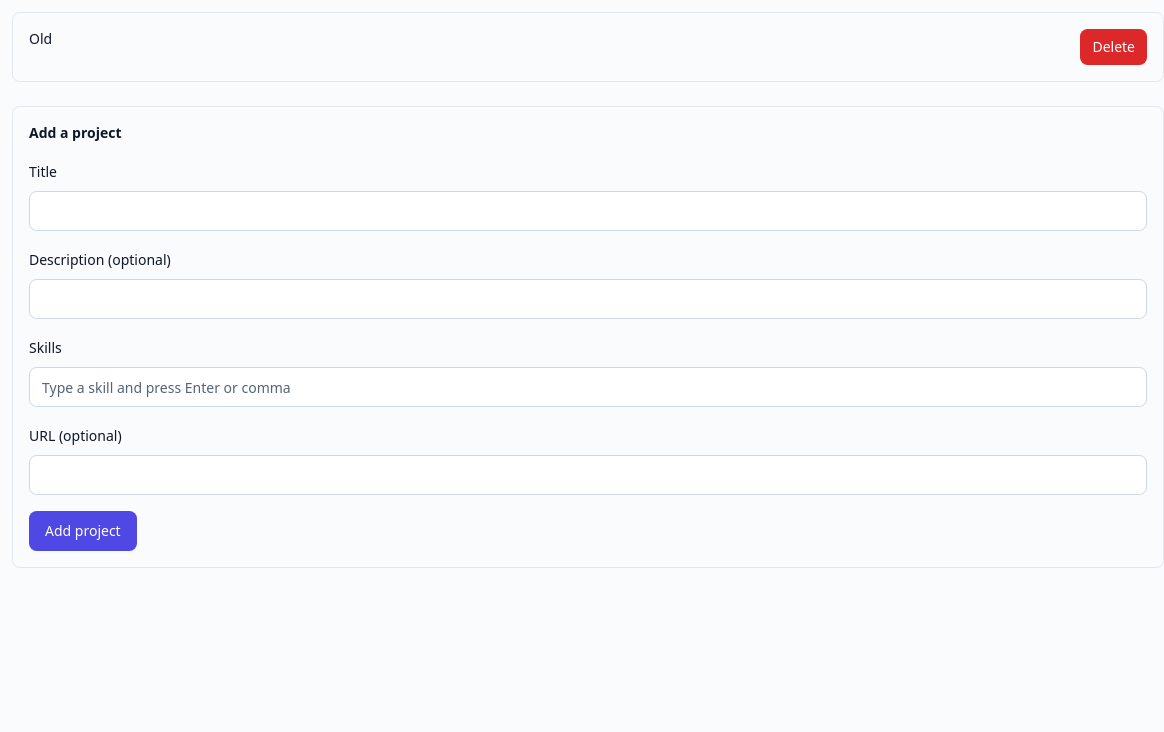
Scenario: ProjectsPanel › deletes a project
The image size is (1164, 732).
Click the button with aria-label "Delete project Old". click: (1114, 47)
box: [1080,29,1147,65]
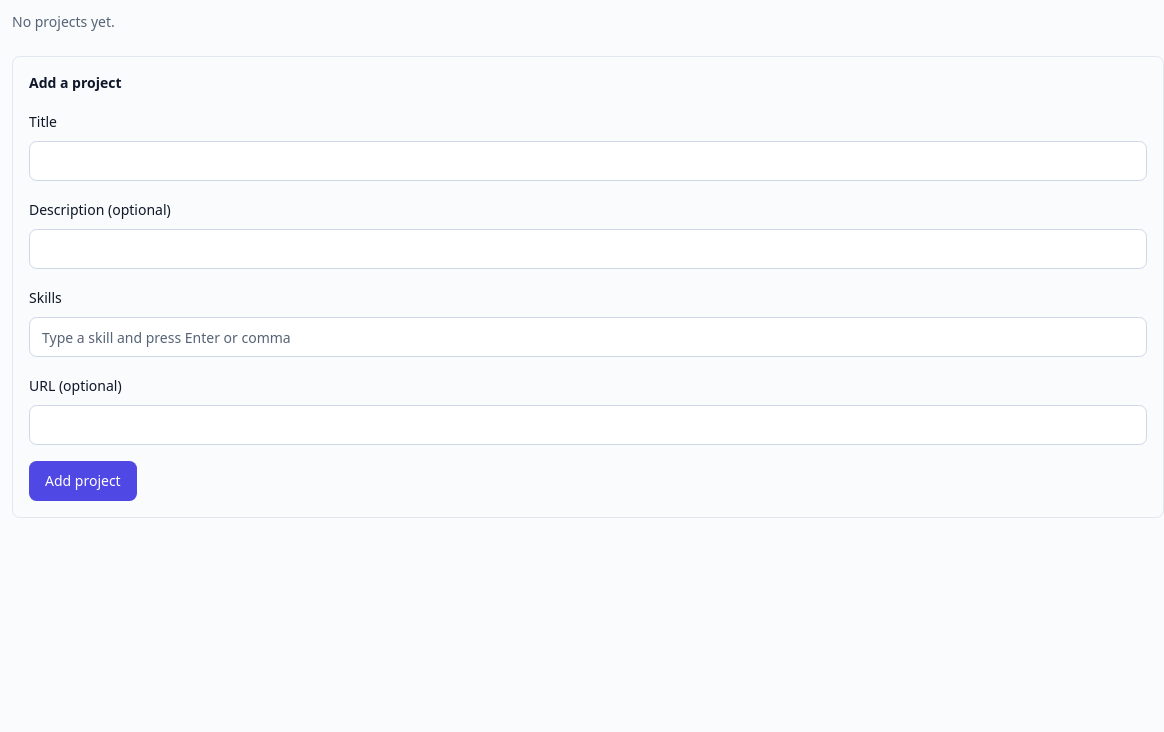
Expected: the text "Old" is gone
